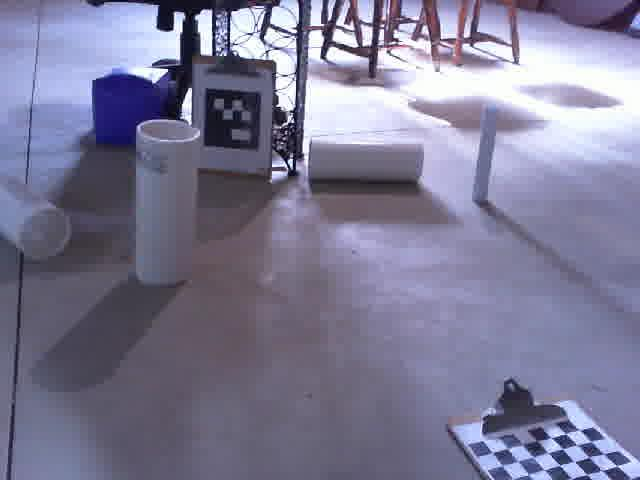coral: (135, 117, 200, 285), (0, 168, 75, 262), (305, 134, 427, 187)
